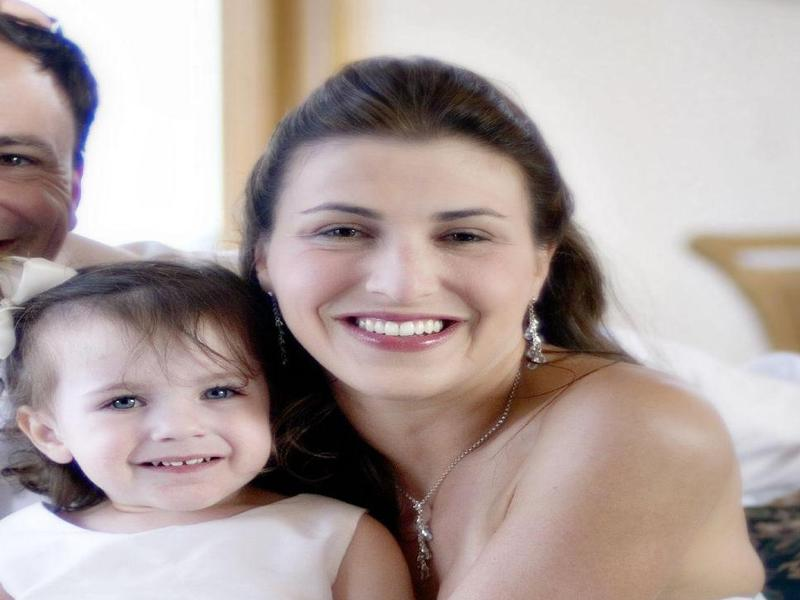person: (249, 65, 768, 595), (15, 268, 411, 600), (1, 1, 142, 286)
